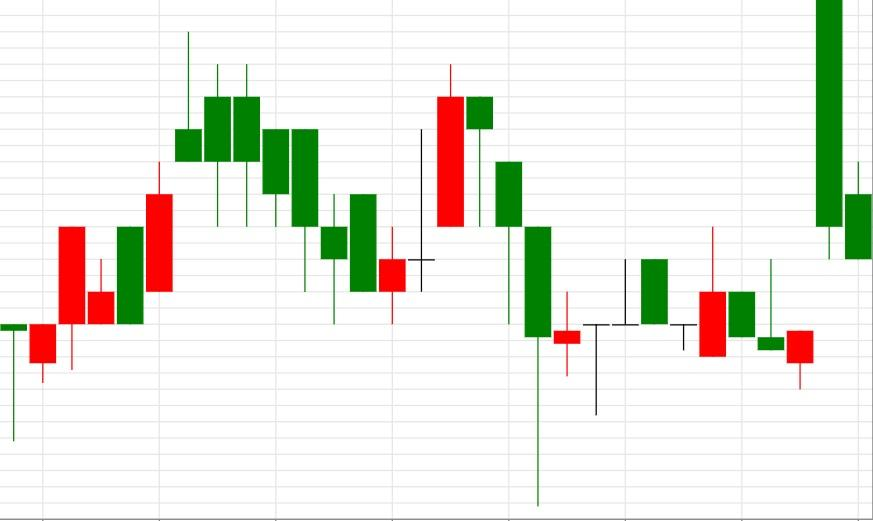shooting_star_fall: (0, 31, 203, 441)
three_black_crows_fall: (377, 63, 552, 506)
